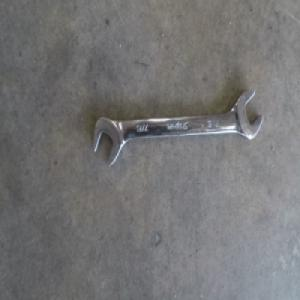Wrench: (90, 91, 257, 166)
